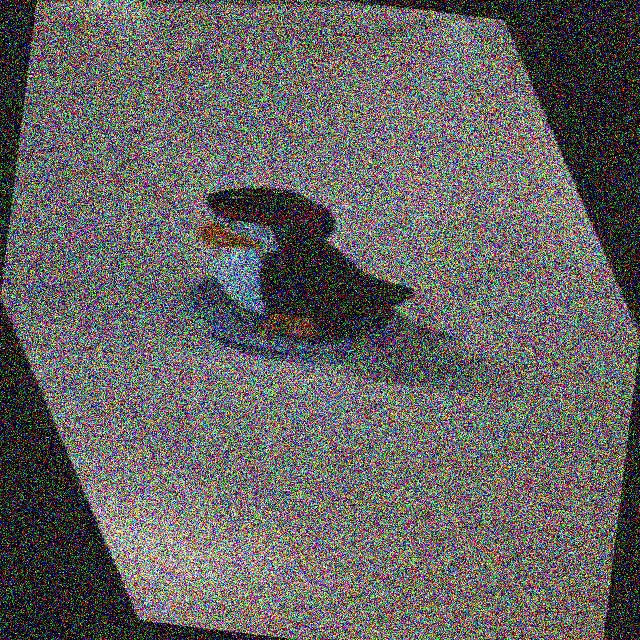Penguin: (78, 128, 486, 401)
